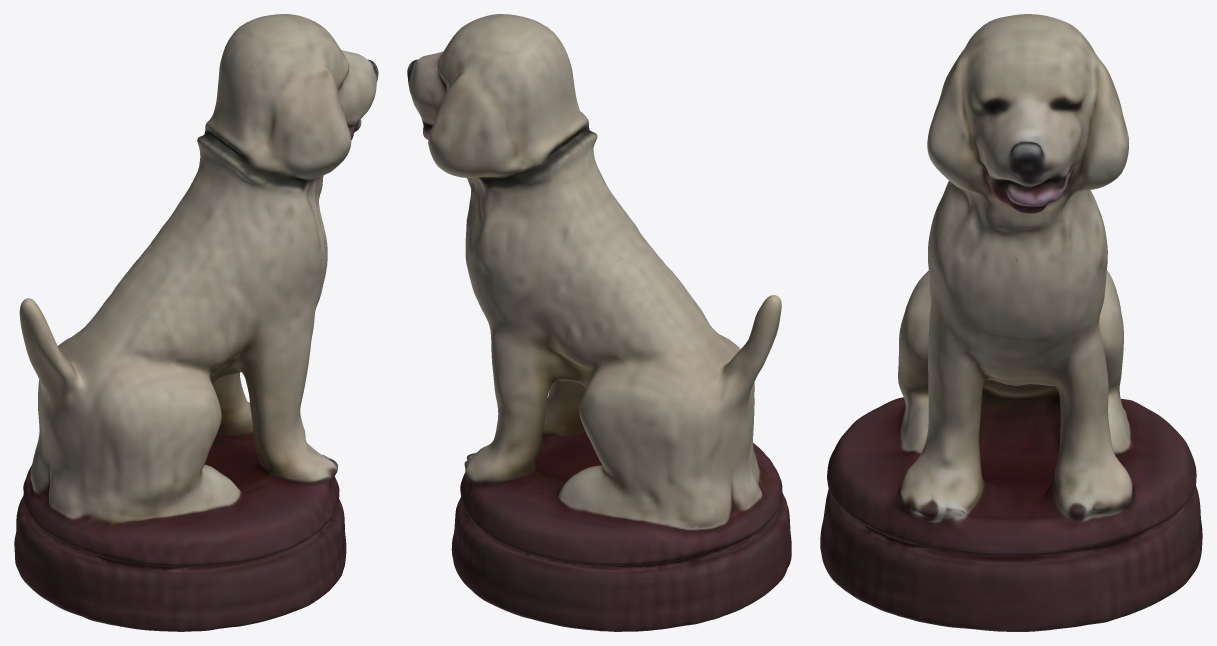
File: Pawn-Labradoodle2.glb
The picture shows the model from 3 angles, left to right: view 1: azimuth 30°, elevation 25°; view 2: azimuth 150°, elevation 25°; view 3: azimuth 270°, elevation 25°; orthographic projection. The views are drawn at different scales.
Visible parts, largest first — view 1: high_poly; view 2: high_poly; view 3: high_poly.
Boxes of the visible parts, <box> form: high_poly: <box>14,14,378,631</box>; high_poly: <box>407,14,791,631</box>; high_poly: <box>820,14,1202,631</box>.
Bounding box in the file's own units: 0.7332 × 1 × 0.5827.
Materials: 1 (1 with a texture image).
